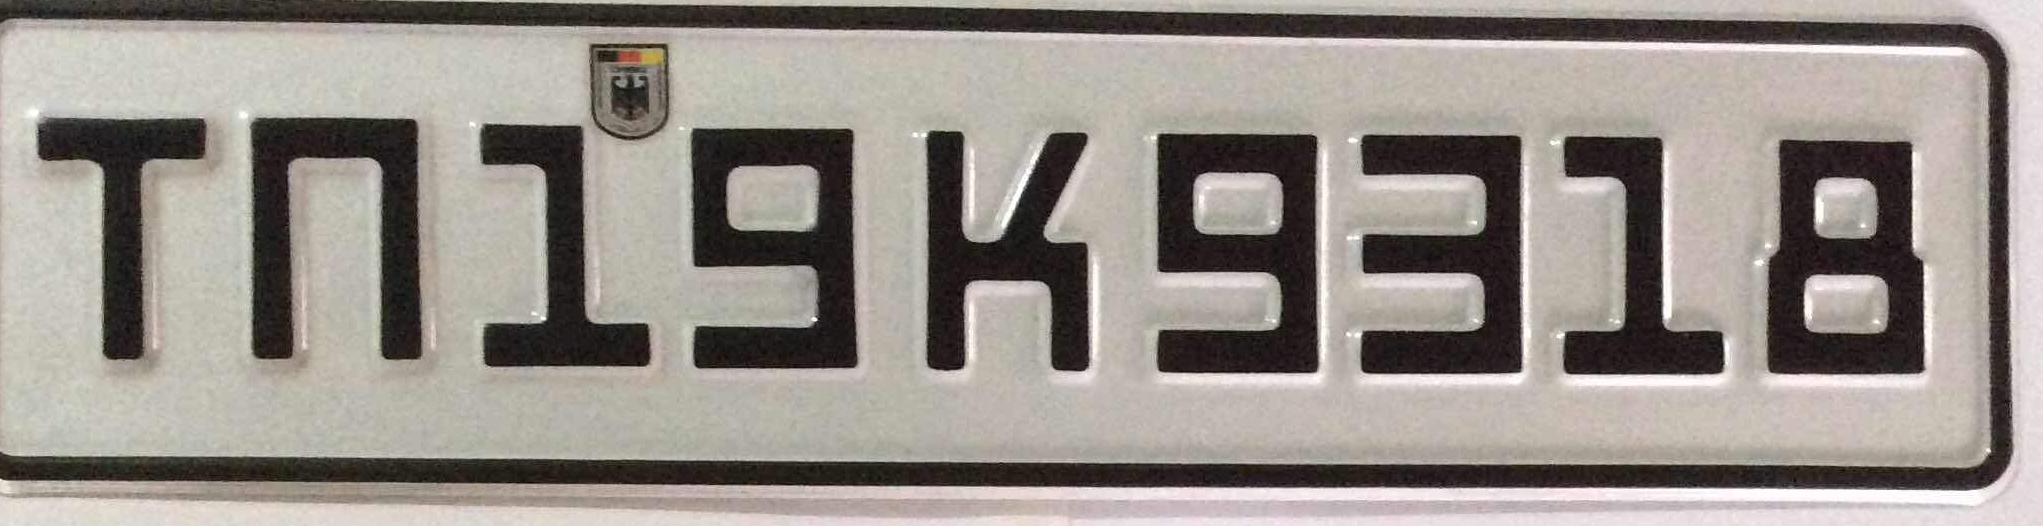1: (472, 118, 657, 373), (1555, 131, 1733, 376)
3: (1356, 130, 1531, 383)
8: (1760, 138, 1944, 383)
9: (683, 121, 876, 375), (1155, 129, 1333, 379)
K: (916, 126, 1103, 375)
N: (247, 114, 428, 368)
T: (31, 106, 219, 365)
